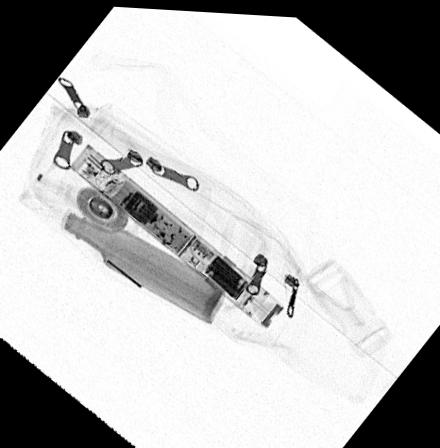Baton: (67, 142, 286, 329)
